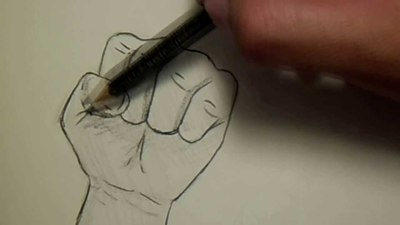closedhandfront: (54, 22, 248, 199)
